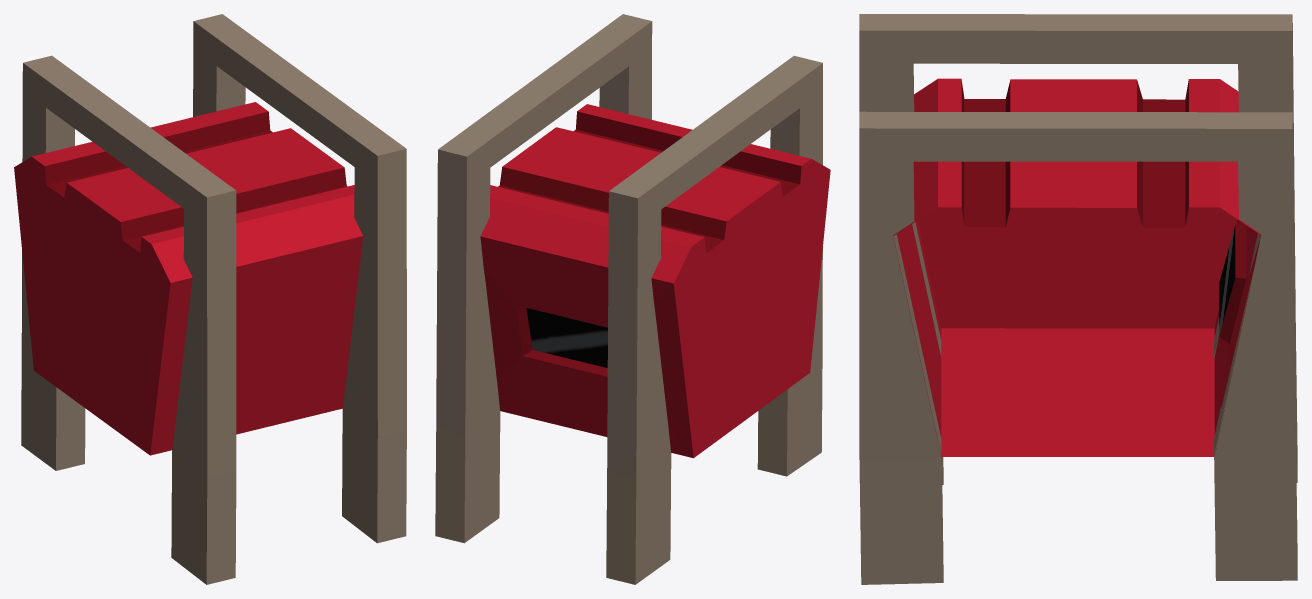
The model's file is house_right_v2.fbx.
3 renders of one model, left to right at view 1: azimuth 30°, elevation 25°; view 2: azimuth 150°, elevation 25°; view 3: azimuth 270°, elevation 25°, orthographic. The views are drawn at different scales.
Parts seen in each view (by area): view 1: house_right; view 2: house_right; view 3: house_right.
Boxes of the visible parts, box(x1,y1,x2,y2) form: house_right: box(14, 14, 406, 584); house_right: box(435, 14, 830, 584); house_right: box(859, 14, 1297, 584).
Size of the model in its own units: 657 by 1088 by 947.
